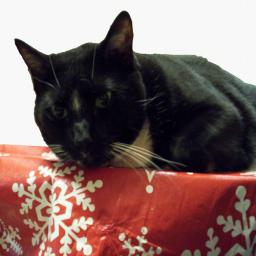catnose: (72, 123, 93, 153)
